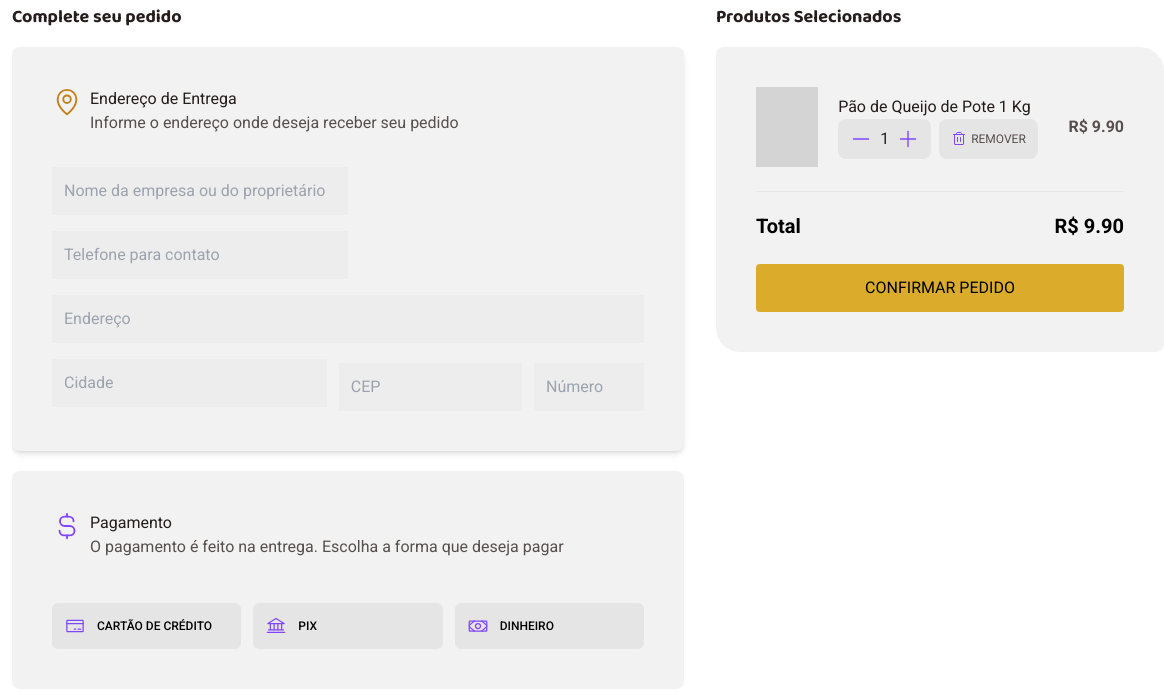
Test: Form Component › Should show the error message when the user tries to send the form with invalidate content
What coordinates should you click on to do the following:
click the button "confirmar pedido"
I would click on:
 (940, 288)
Its box is [756, 264, 1124, 312].
(page scrolled)
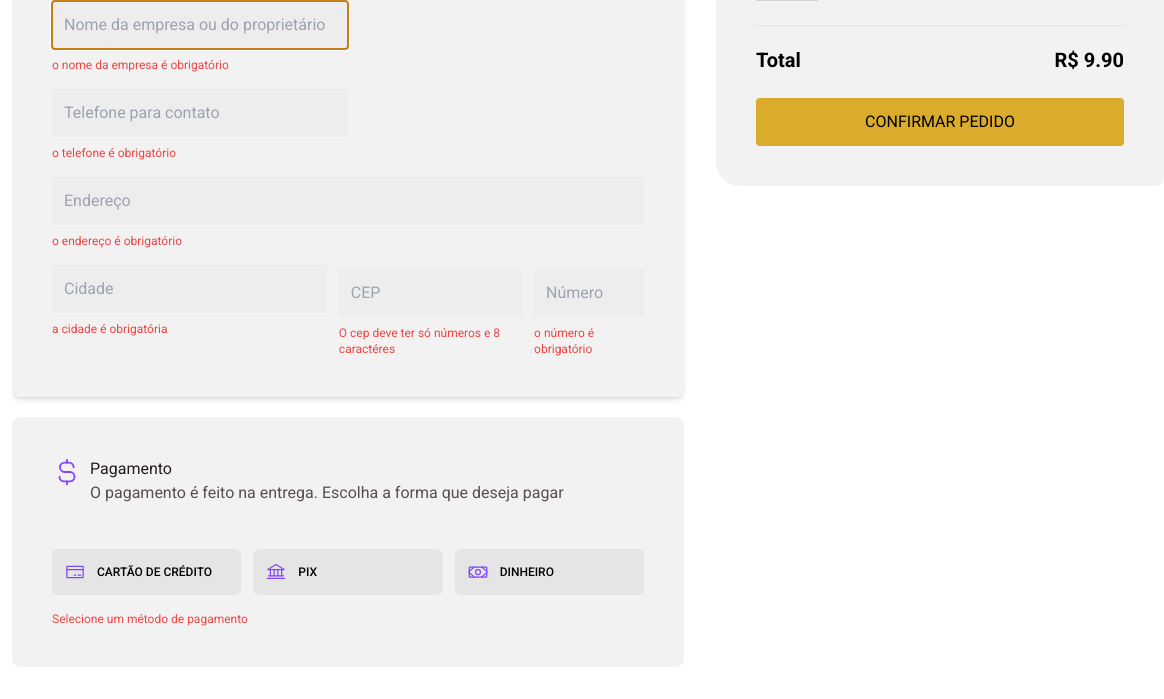
Check: the text "o nome da empresa é obrigatório" is shown, box [52, 58, 229, 72]
Check: the text "o telefone é obrigatório" is shown, box [52, 146, 176, 160]
Check: the text "o endereço é obrigatório" is shown, box [52, 234, 182, 248]
